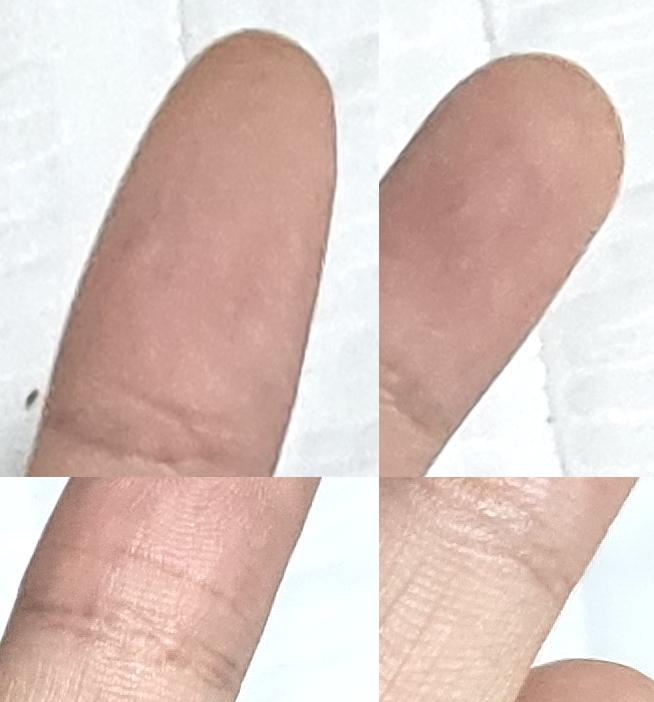Fingerprints: (40, 31, 336, 477), (379, 52, 625, 432), (16, 477, 321, 680)
